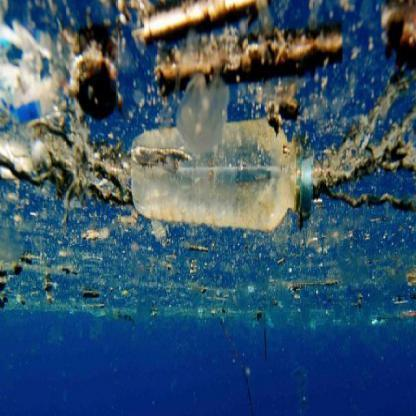Plastic: (124, 118, 321, 230)
